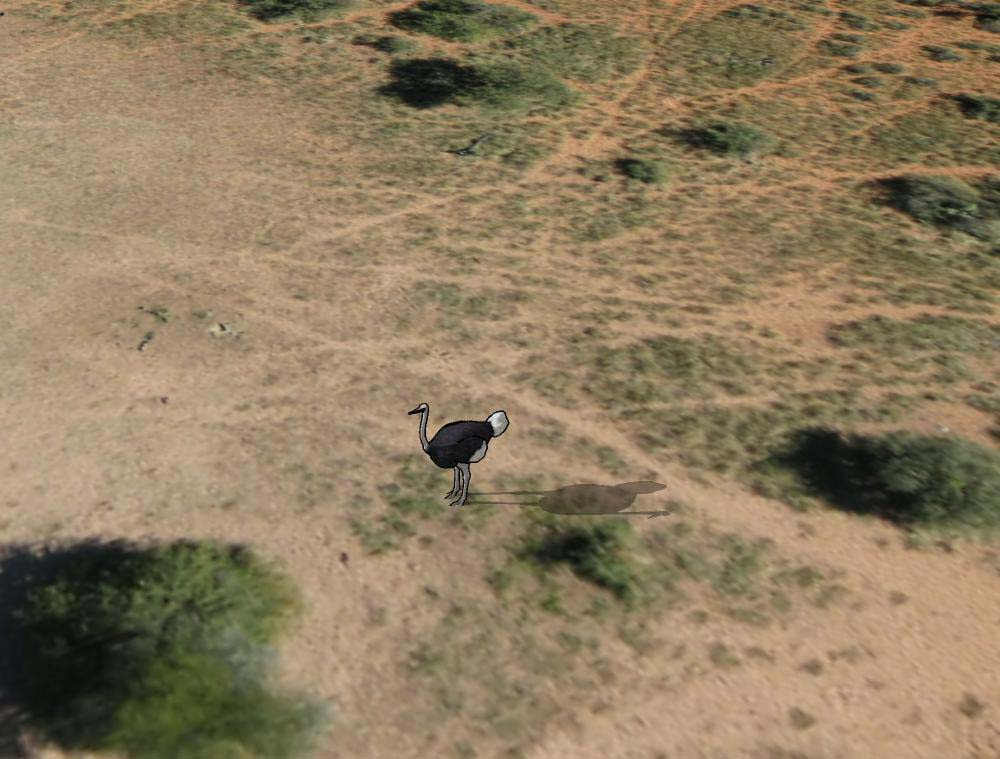springbok: (409, 396, 511, 506)
